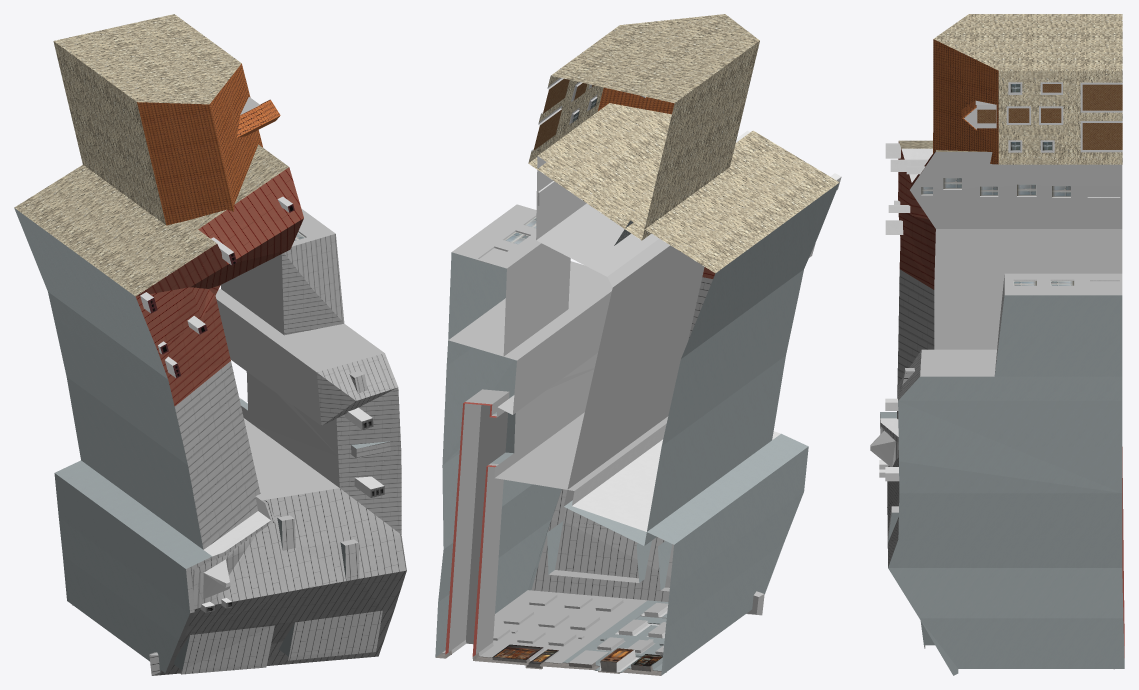
Rendered from Viru_9.obj.
3 renders of one model, left to right at view 1: azimuth 30°, elevation 25°; view 2: azimuth 150°, elevation 25°; view 3: azimuth 270°, elevation 25°, orthographic. The views are drawn at different scales.
Parts seen in each view (by area): view 1: Viru_9; view 2: Viru_9; view 3: Viru_9.
Part boxes in pixels (bbox=[...]): Viru_9: bbox=[14, 14, 406, 675]; Viru_9: bbox=[435, 14, 841, 675]; Viru_9: bbox=[870, 14, 1124, 675].
Size of the model in its own units: 26.12 by 55.35 by 22.92.
